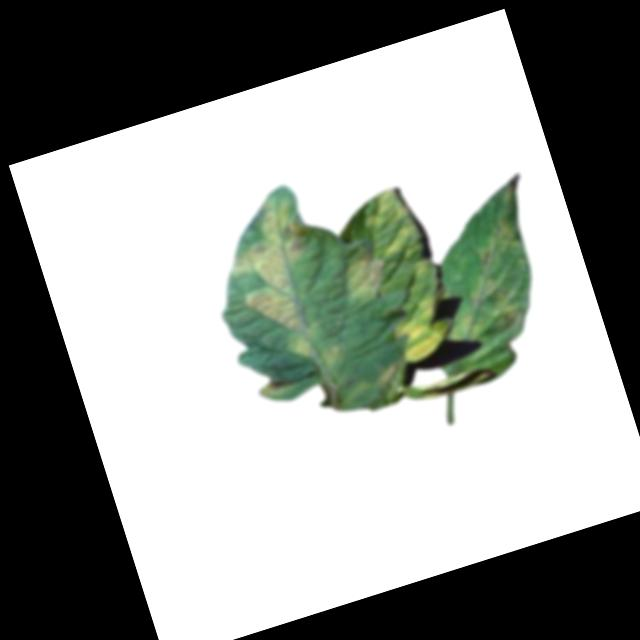Leaf_Mold: (415, 176, 567, 352), (212, 191, 339, 349), (357, 183, 427, 267), (386, 289, 460, 366), (286, 326, 348, 381), (335, 251, 391, 307), (253, 370, 288, 402)
